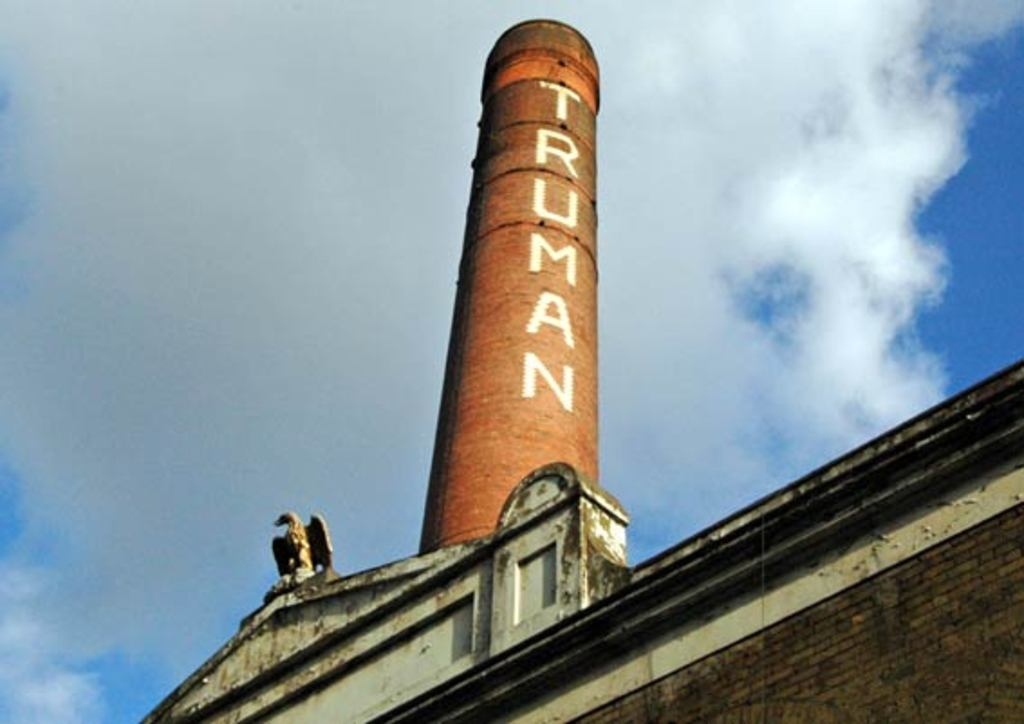person: (269, 509, 341, 593)
